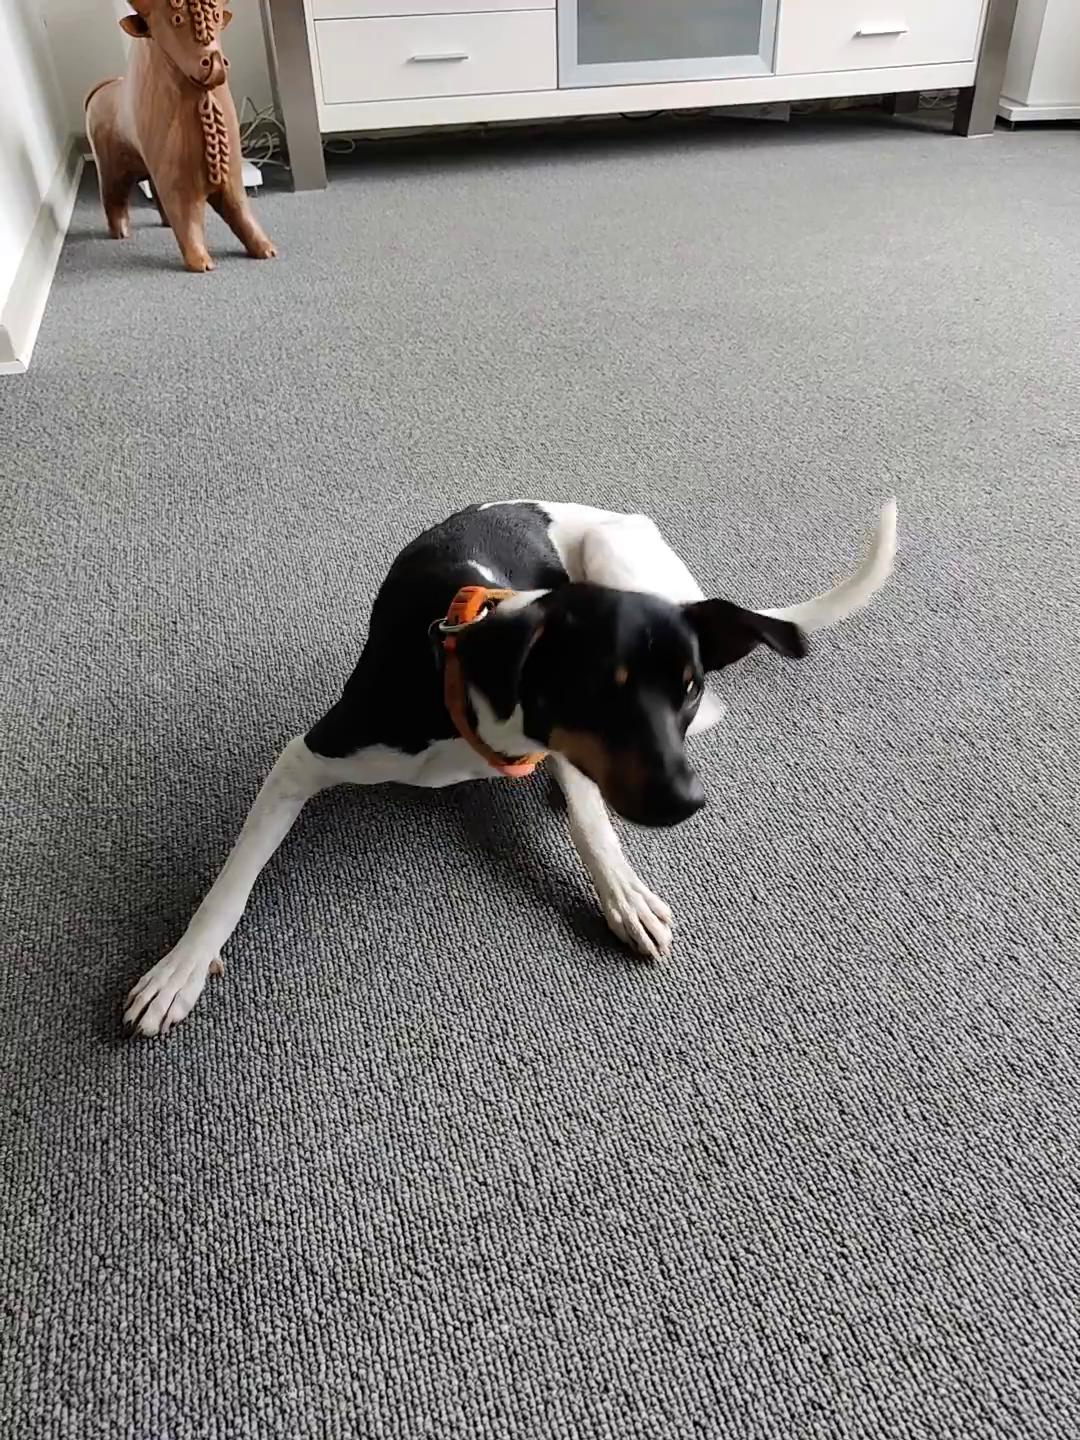Dog: (111, 490, 897, 1049)
